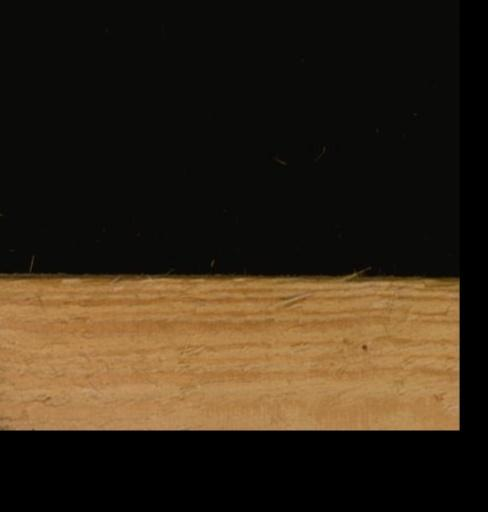small_knot: (350, 330, 376, 355)
